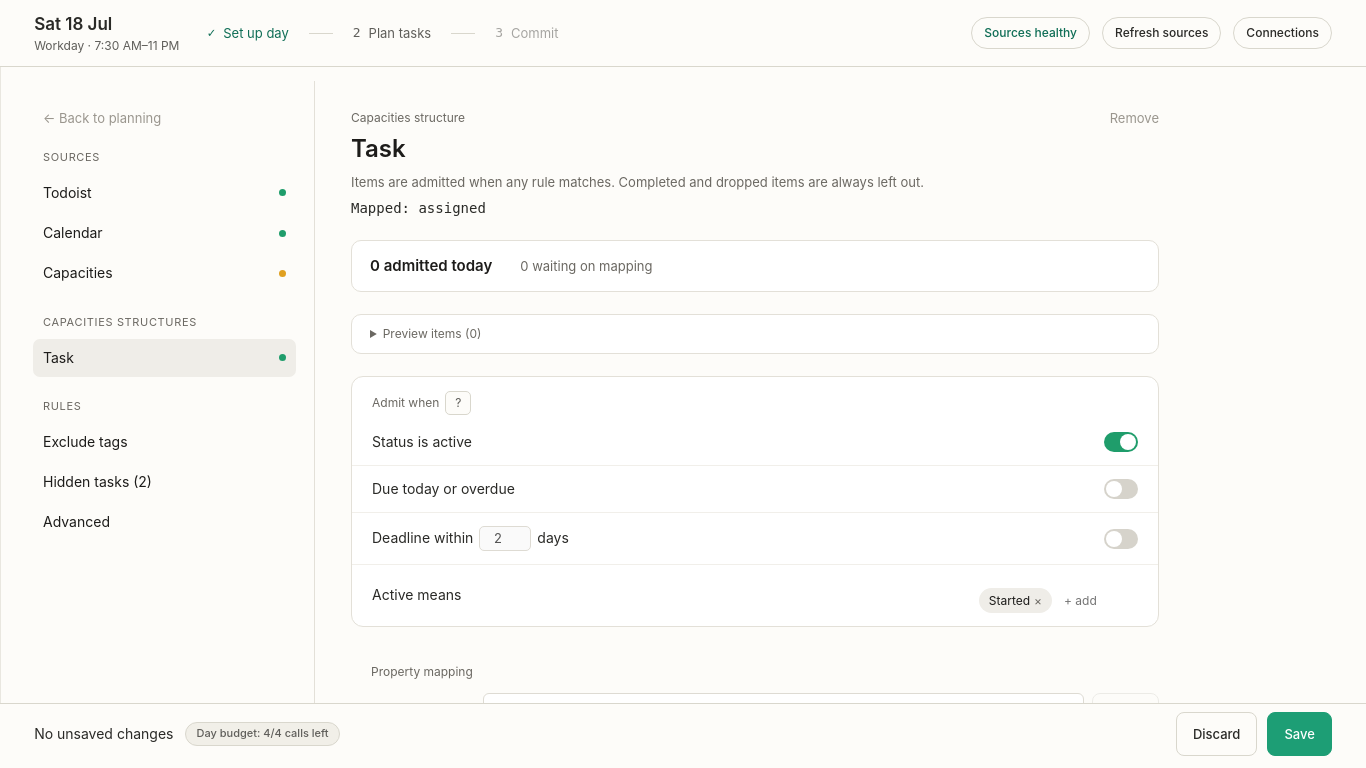
Connections · Hidden tasks › Show again marks the draft dirty and Save posts unchanged tags plus the reduced list
This screenshot has width=1366, height=768.
Click the button "Hidden tasks (2)". click: click(97, 482)
box: [33, 463, 296, 502]
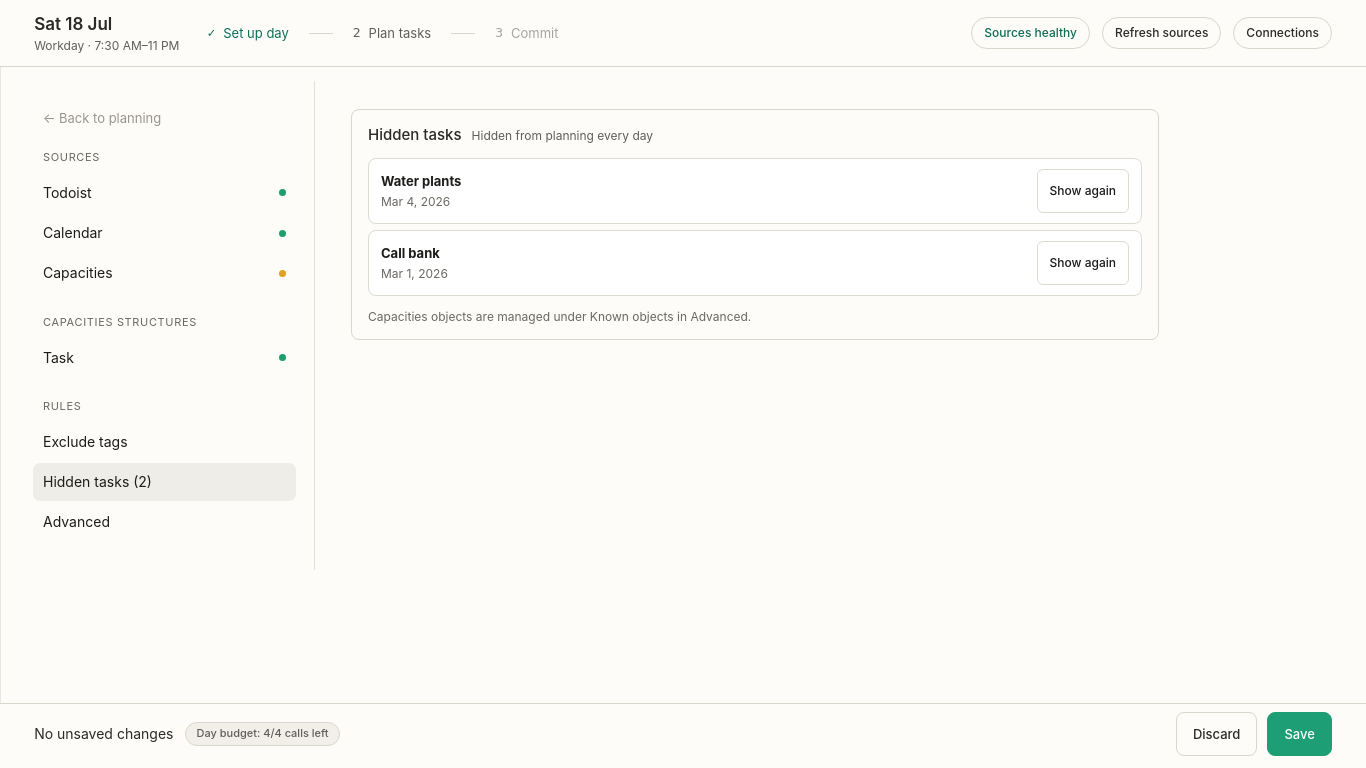
Click the button with aria-label "Show again Water plants". click: click(1083, 191)
box: [1036, 169, 1129, 213]
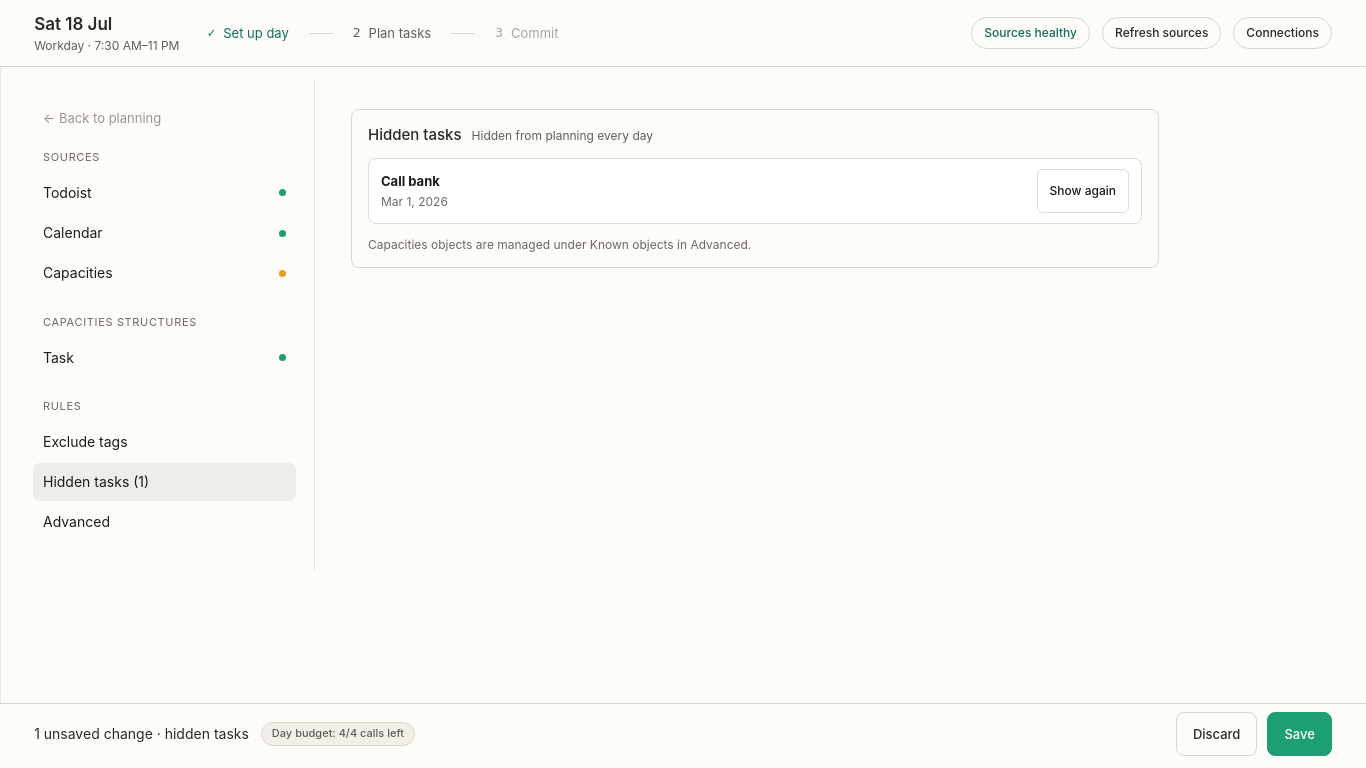
Expected: the text "1 unsaved change · hidden tasks" is shown, [34, 724, 249, 744]
Click the button "Save". click: click(1300, 734)
box: [1267, 712, 1332, 756]
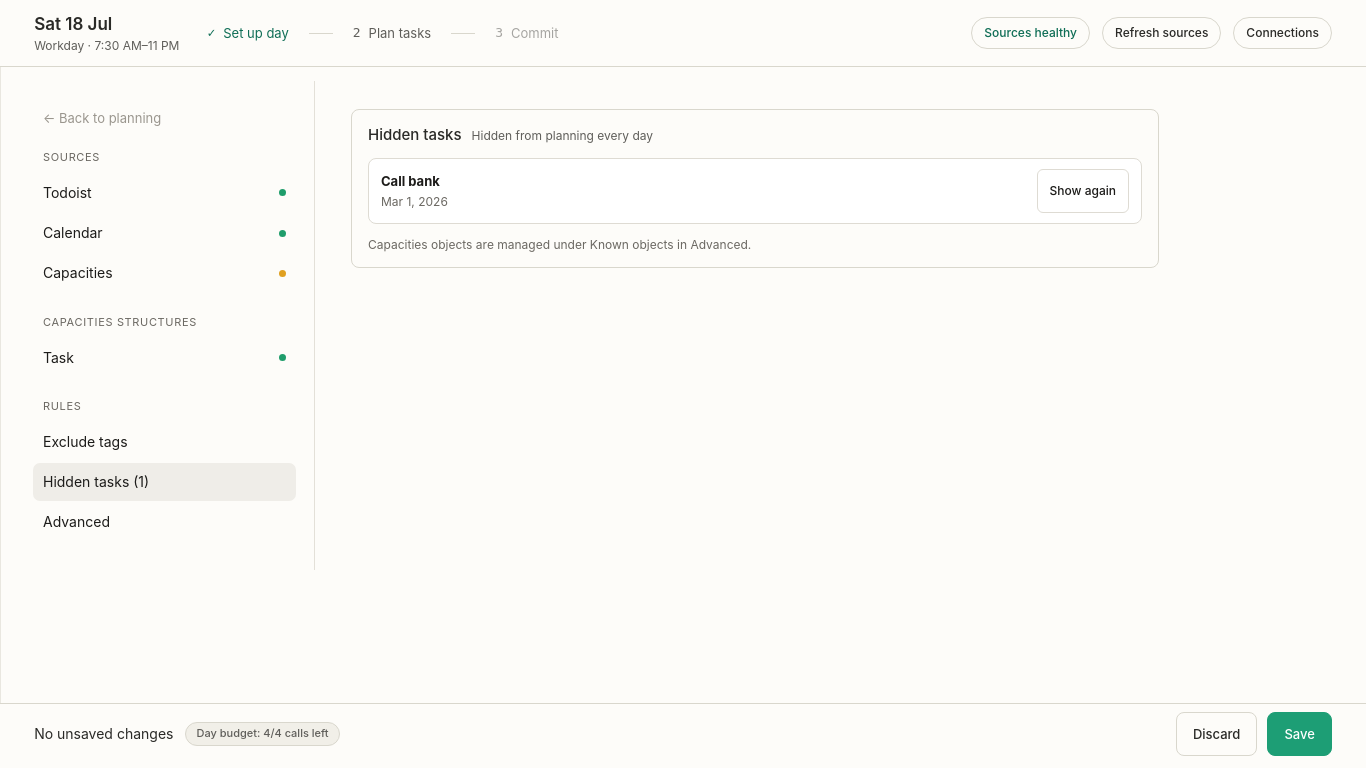
Expected: the text "No unsaved changes" is shown, [34, 724, 173, 744]
